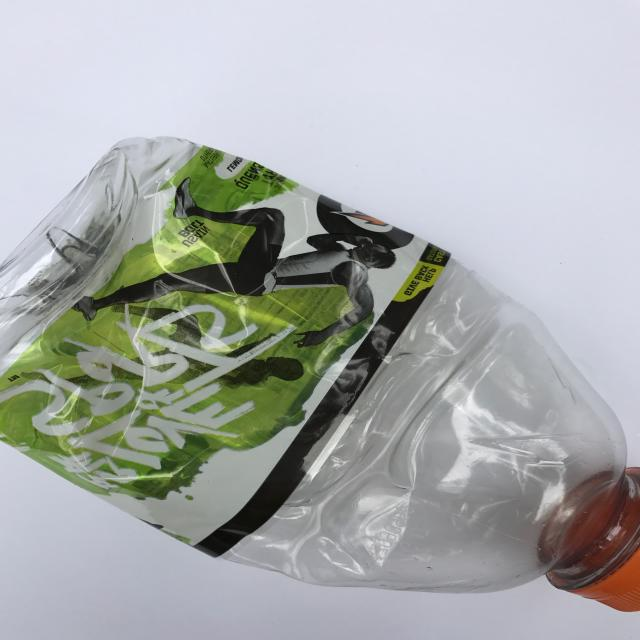plastic: (0, 134, 640, 612)
